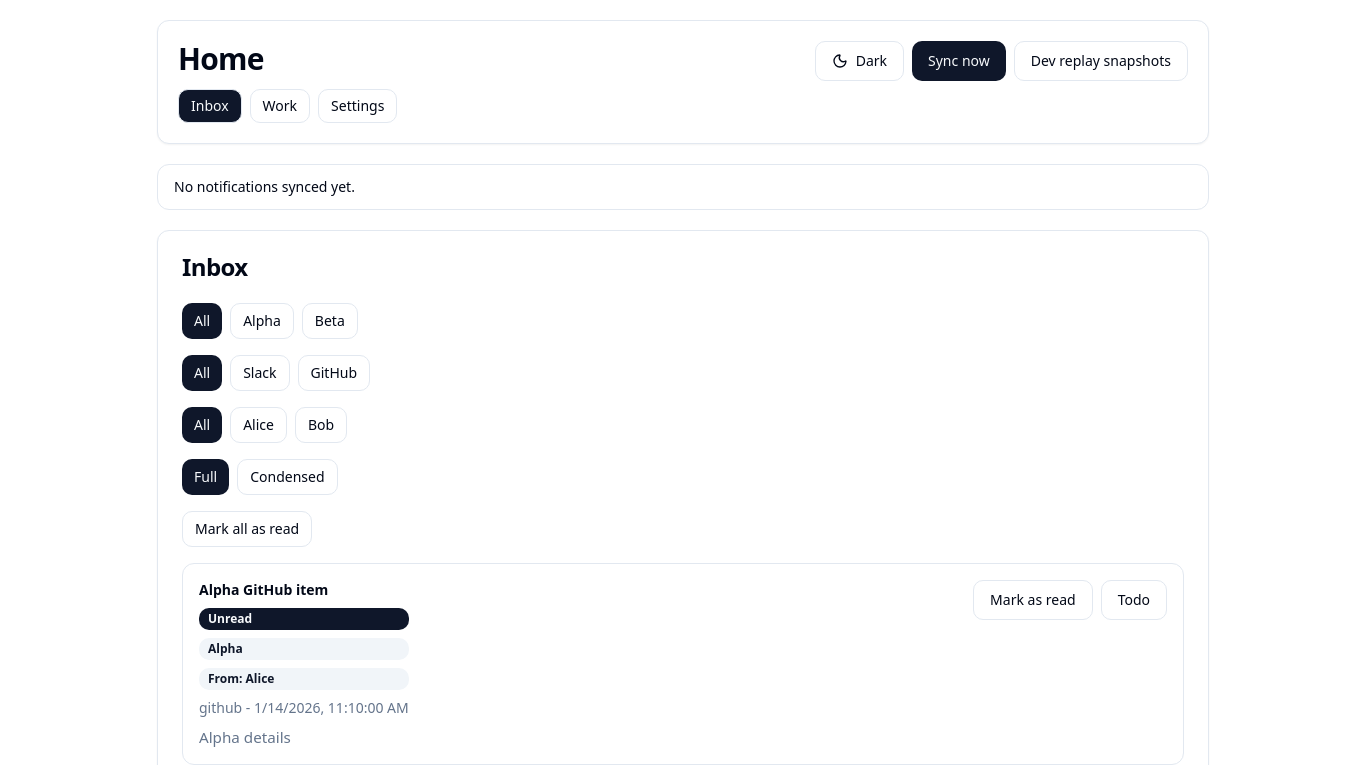
Test: App › keeps project/source/from filters working in condensed mode
Expected: the text "Alpha GitHub item" is shown, [199,580,328,599]
What coordinates should you click on to do the following:
click the button "Condensed"
I would click on:
 (287, 477)
Its box is [237,459,338,495].
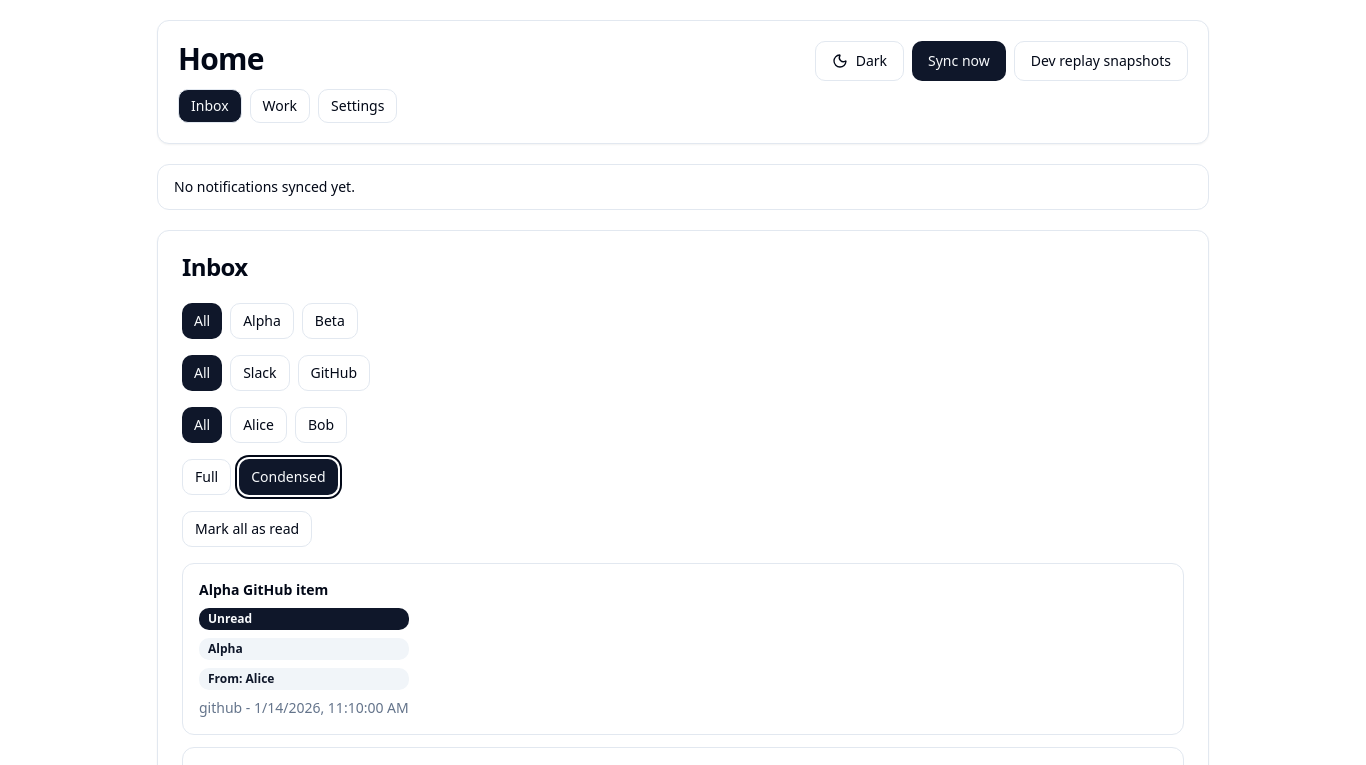
What coordinates should you click on to do the following:
click the button "Slack"
I would click on:
 (260, 373)
Its box is [230,355,290,391].
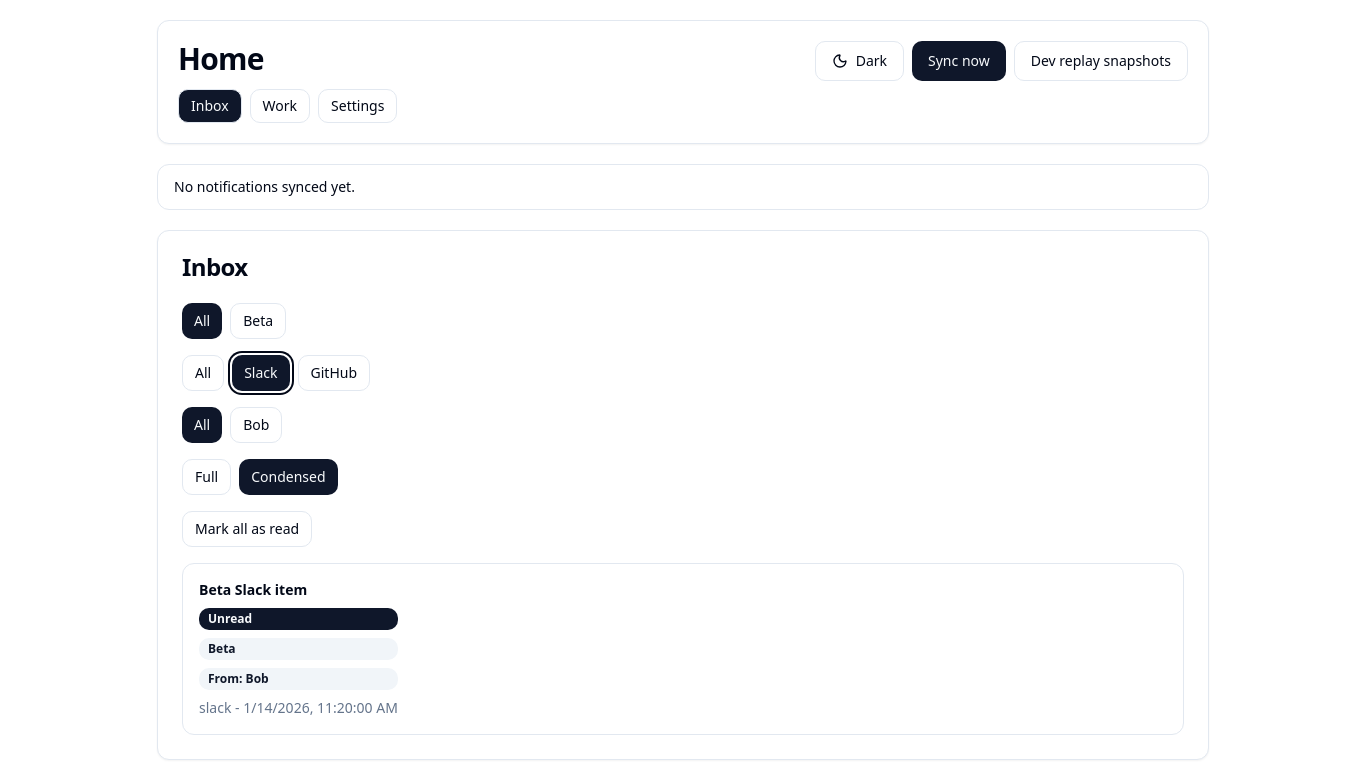
What coordinates should you click on to do the following:
click the button "Beta"
I would click on:
 (258, 321)
Its box is [230,303,286,339].
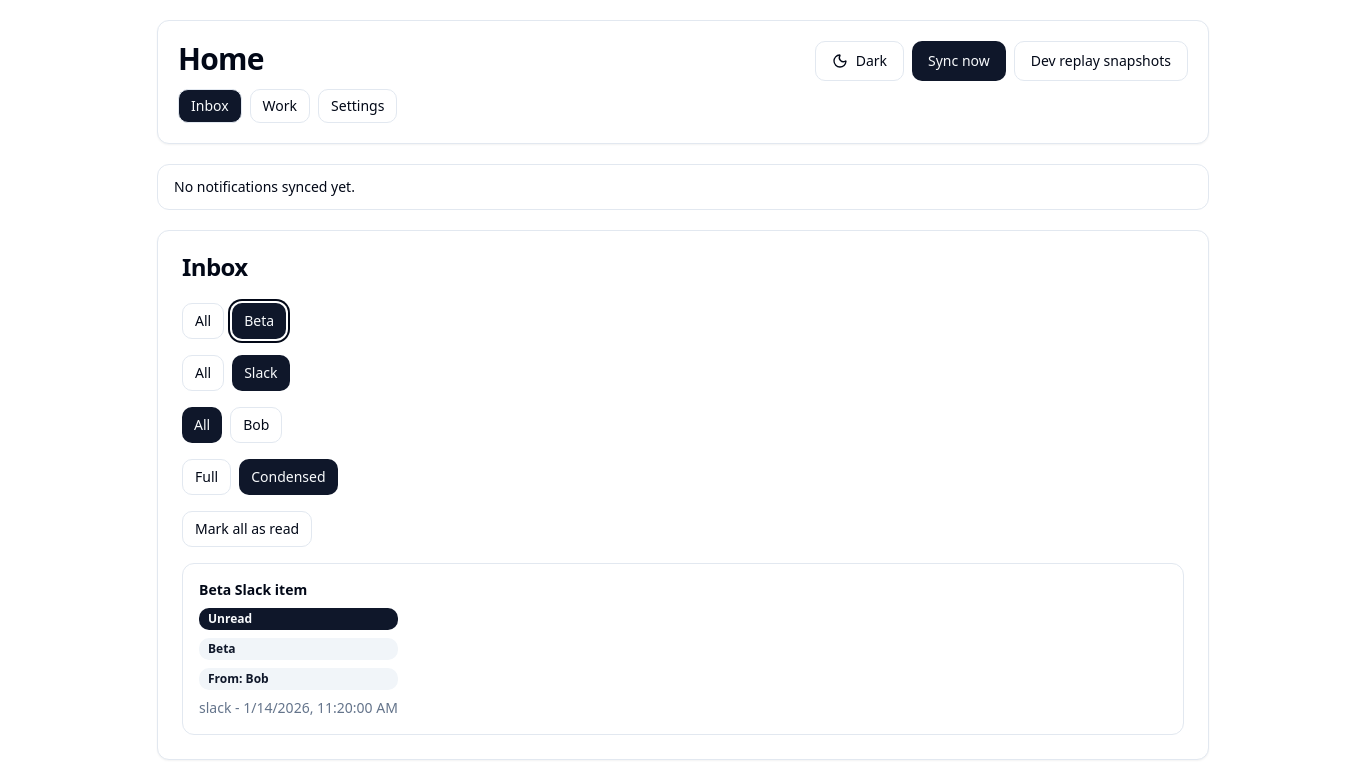
What coordinates should you click on to do the following:
click the button "Bob"
I would click on:
 (256, 425)
Its box is [230,407,282,443].
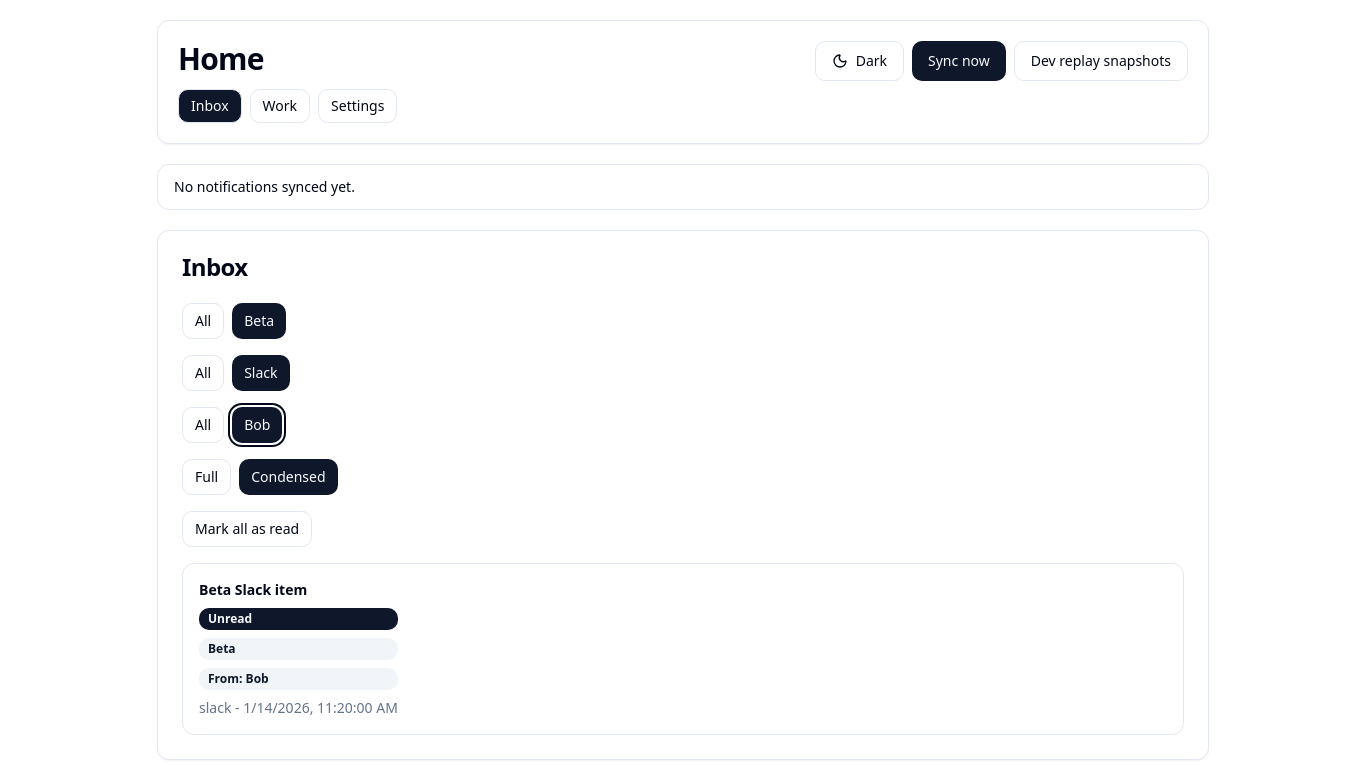
Expected: the text "Beta Slack item" is shown, [199,580,307,599]
Expected: the text "Alpha GitHub item" is not shown
What coordinates should you click on to do the following:
click the button "Full"
I would click on:
 (207, 477)
Its box is [182,459,231,495].
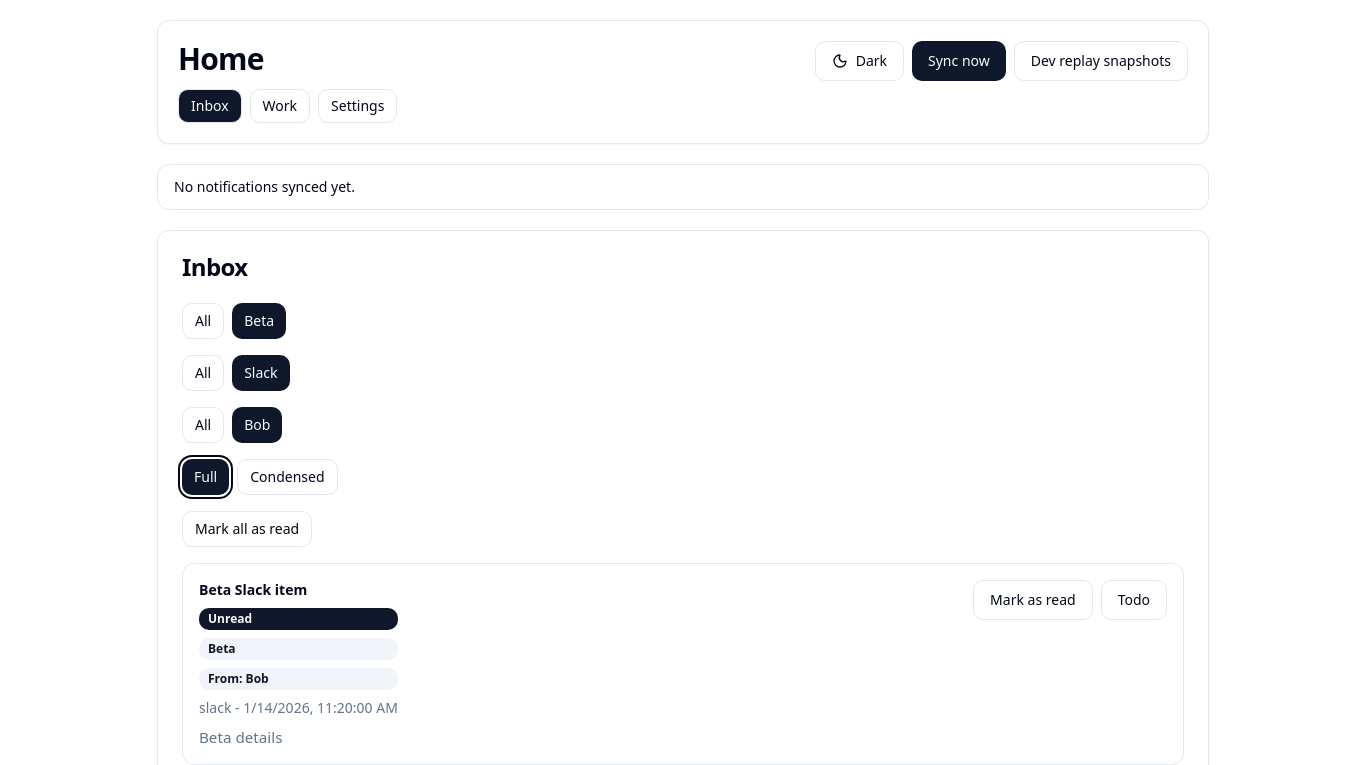
Expected: the text "Alpha GitHub item" is not shown
Expected: the text "Beta details" is shown, [199,727,282,747]
Expected: the button "Mark as read" is shown, [973,580,1093,620]
